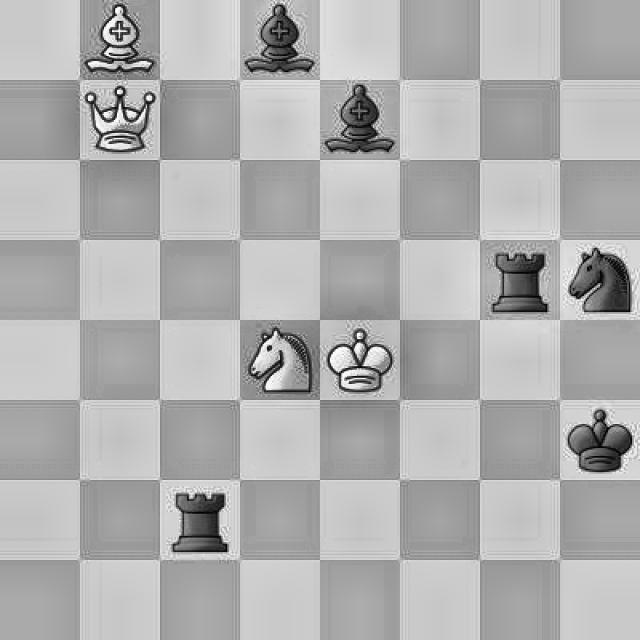Black Knight: (563, 244, 637, 320)
black bishop: (245, 0, 318, 76), (323, 77, 394, 154)
black king: (567, 399, 634, 475)
black rook: (490, 242, 552, 316), (168, 485, 232, 555)
white bishop: (82, 3, 163, 78)
white king: (328, 324, 394, 394)
white queen: (84, 82, 154, 157)
whiteknight: (248, 324, 318, 397)
